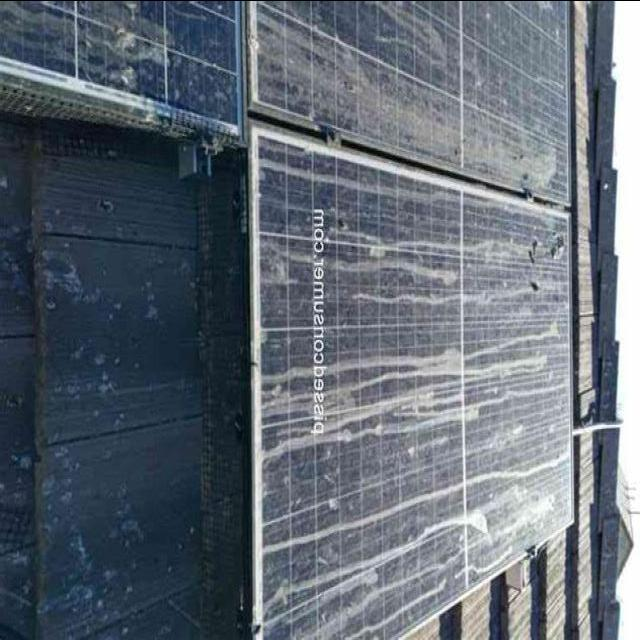soiled: (251, 0, 572, 621), (0, 0, 240, 129)
